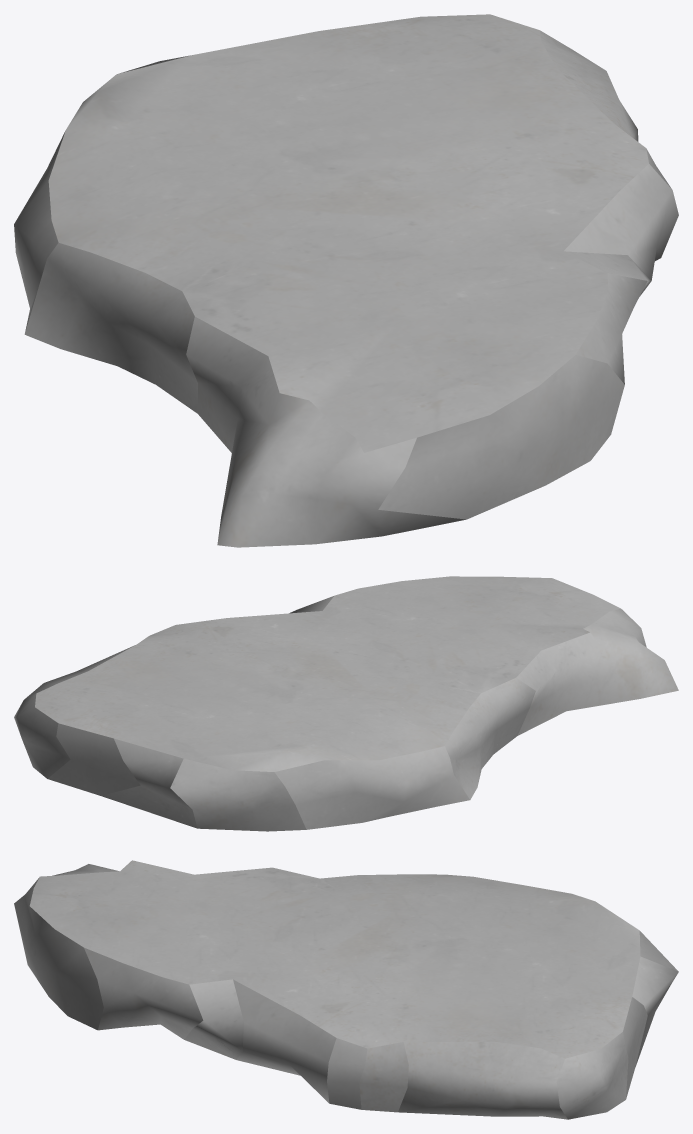
The model's file is SM_Ground_Debris_M3.fbx.
The picture shows the model from 3 angles, top to bottom: view 1: azimuth 30°, elevation 25°; view 2: azimuth 150°, elevation 25°; view 3: azimuth 270°, elevation 25°; orthographic projection. The views are drawn at different scales.
Parts seen in each view (by area): view 1: SM_Ground_Debris_M3_LOD0; view 2: SM_Ground_Debris_M3_LOD0; view 3: SM_Ground_Debris_M3_LOD0.
Boxes of the visible parts, x1,y1,x2,y2 form: SM_Ground_Debris_M3_LOD0: (14,14,678,547); SM_Ground_Debris_M3_LOD0: (14,576,678,831); SM_Ground_Debris_M3_LOD0: (14,860,678,1119).
Bounding box in the file's own units: 172 × 201 × 26.25.
Materials: 1 (1 with a texture image).
